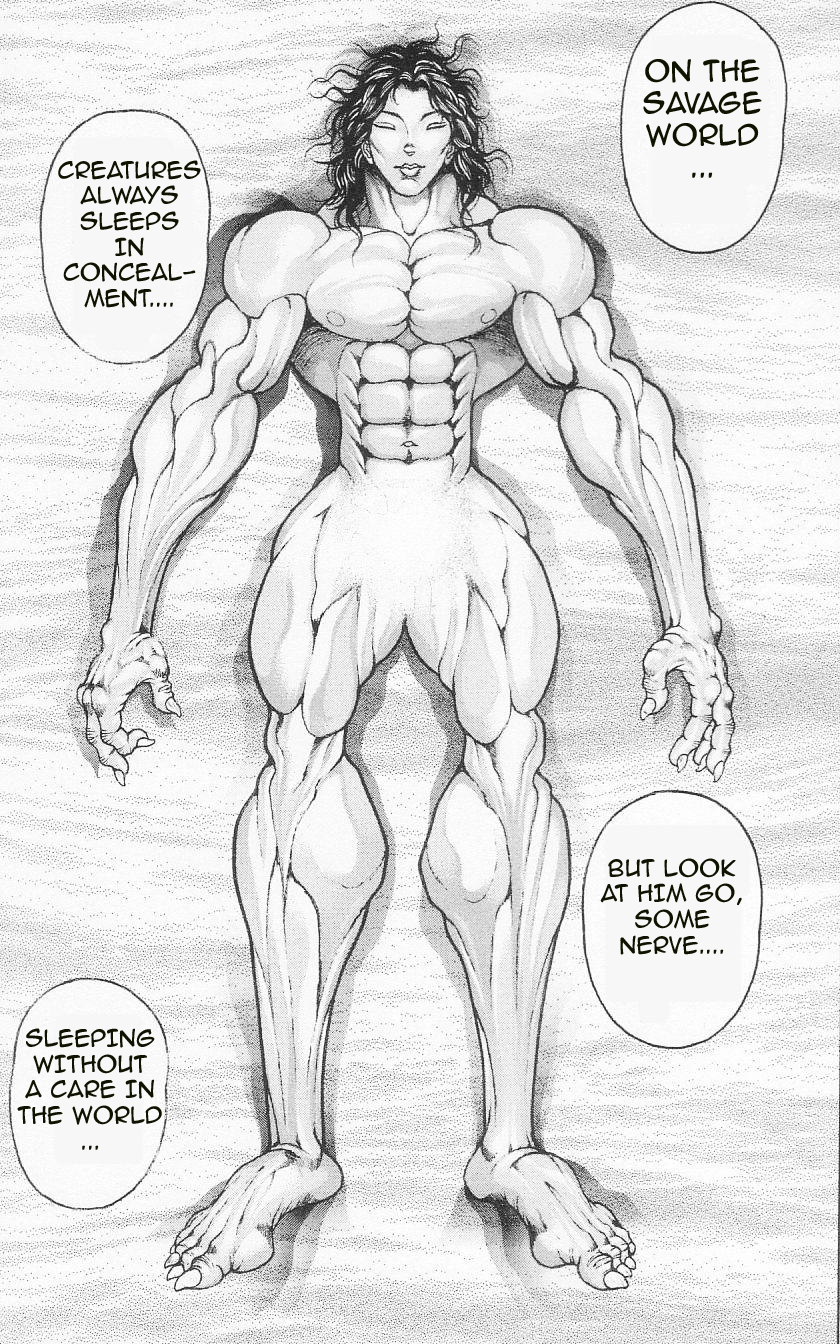Baloon: (586, 786, 763, 1049), (41, 110, 208, 367), (623, 1, 786, 253), (8, 982, 174, 1212)
Vignetta: (2, 2, 834, 1344)
